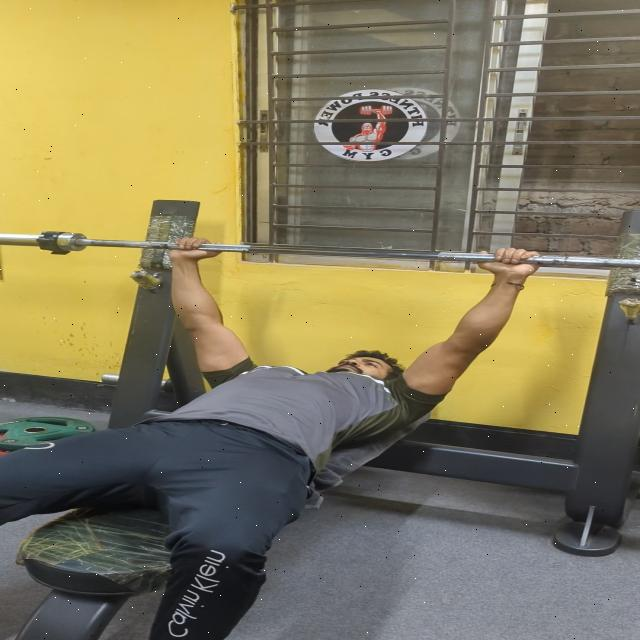Normal_BrenchPress: (0, 226, 591, 640)
